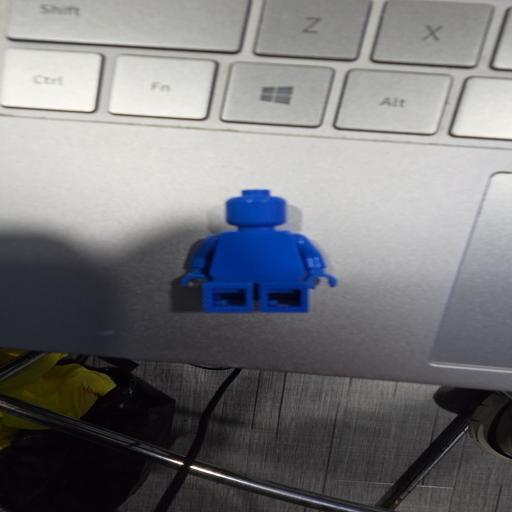Blue: (182, 190, 335, 312)
